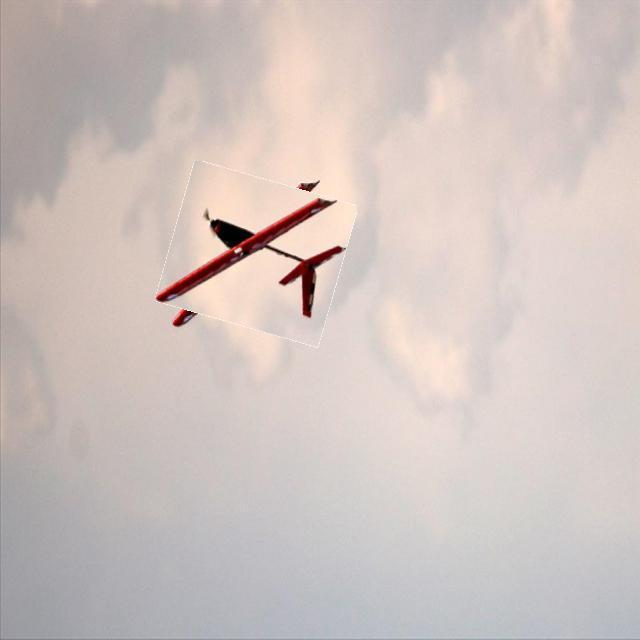UAV: (144, 152, 363, 350)
